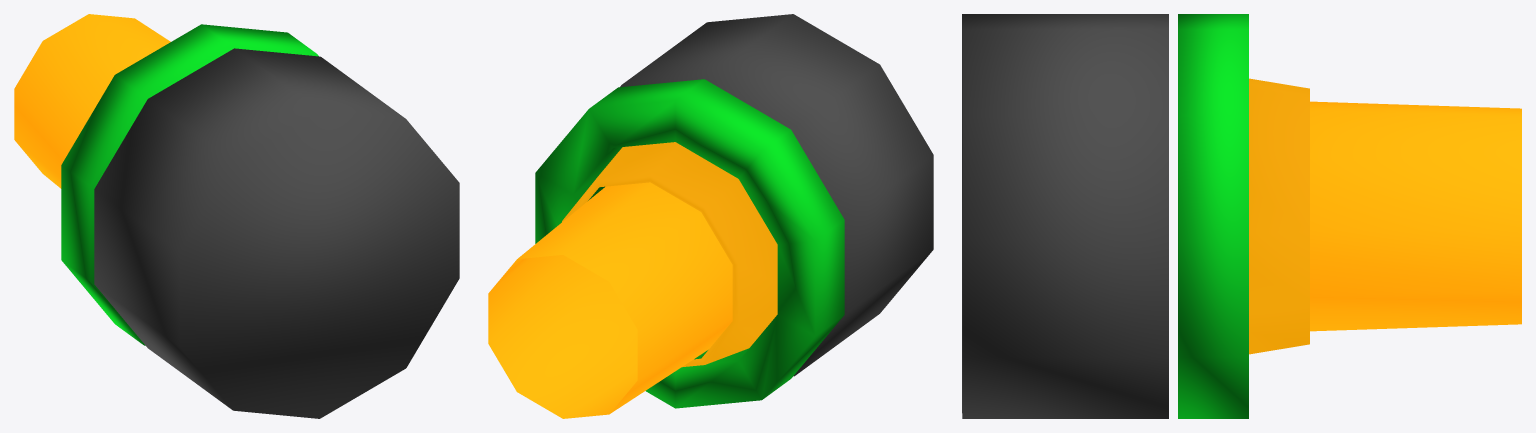
Rendered from boost.glb.
The picture shows the model from 3 angles, left to right: view 1: azimuth 30°, elevation 25°; view 2: azimuth 150°, elevation 25°; view 3: azimuth 270°, elevation 25°; orthographic projection. The views are drawn at different scales.
Parts seen in each view (by area): view 1: boost.003, boost-part.011; view 2: boost.003, boost-part.011; view 3: boost.003, boost-part.011.
Boxes of the visible parts, bbox=[...] form: boost.003: bbox=[61, 24, 459, 418]; boost-part.011: bbox=[14, 14, 170, 188]; boost.003: bbox=[535, 14, 933, 408]; boost-part.011: bbox=[488, 182, 732, 418]; boost.003: bbox=[962, 14, 1309, 418]; boost-part.011: bbox=[1310, 101, 1521, 331].
Size of the model in its own units: 0.1451 by 0.1525 by 0.2069.
